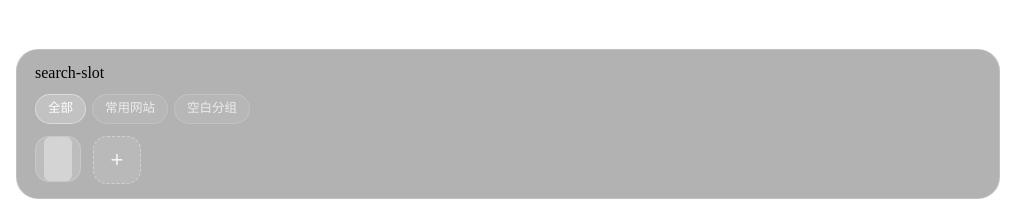
ShortcutDock › 选中空分组显示专属空态且保留「+」
Click the button "空白分组": (212, 109) [174,94,250,124]
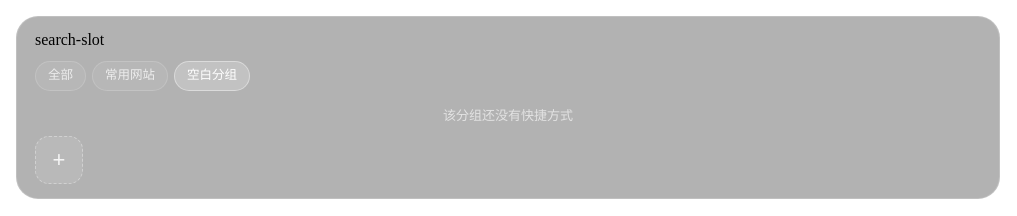
Expected: the button named "添加快捷方式" is shown, [35,136,83,184]
Expected: the text "该分组还没有快捷方式" is shown, [443,108,573,123]
Expected: the link "后台管理" is gone
